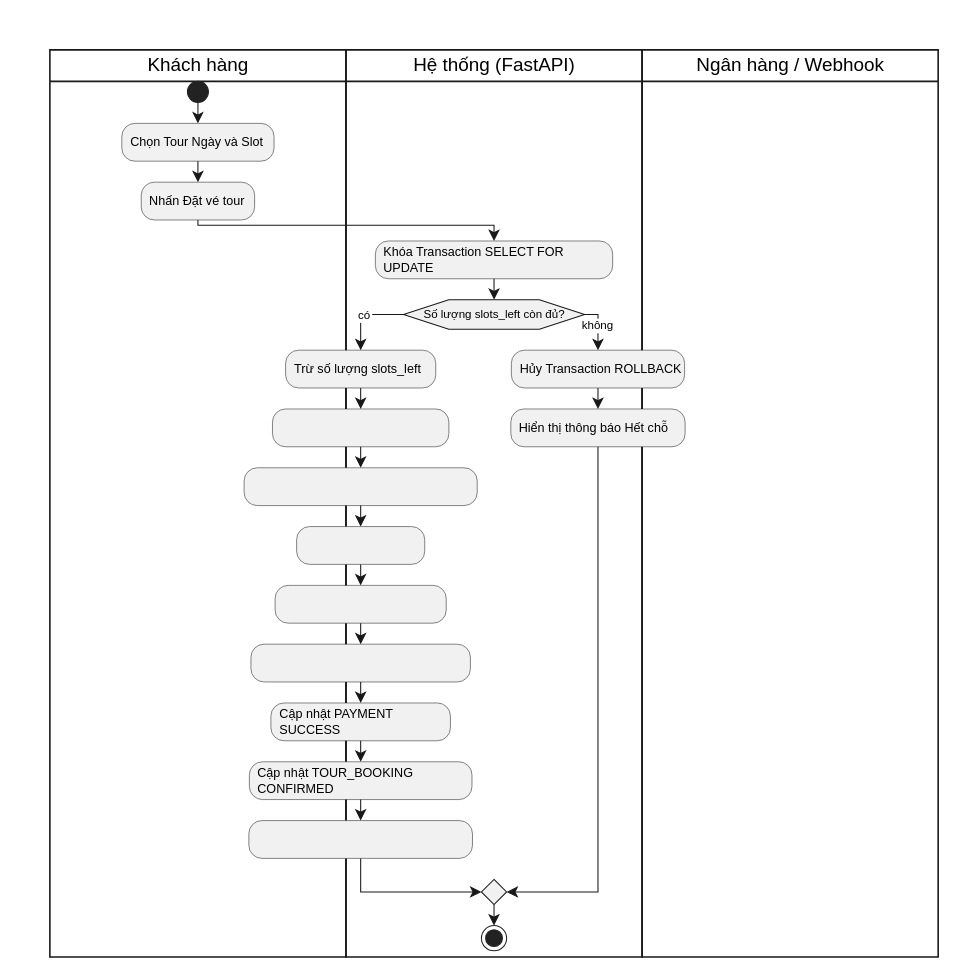
The diagram is 957 pixels wide and 975 high, and some of its shapes have lost their labels. The centre of each missing label's shape, as x and y in pixels:
"Hiển thị mã VietQR" belongs at [360,545].
"Quét mã thanh toán VietQR" belongs at [360,604].
"Tạo PAYMENT ref_type TOUR_BOOKING" belongs at [360,486].
"Tạo TOUR_BOOKING PENDING" belongs at [360,427].
"Tặng mã giảm giá mua chéo UC-28" belongs at [360,839].
"Xác nhận giao dịch chuyển khoản" belongs at [360,662].
